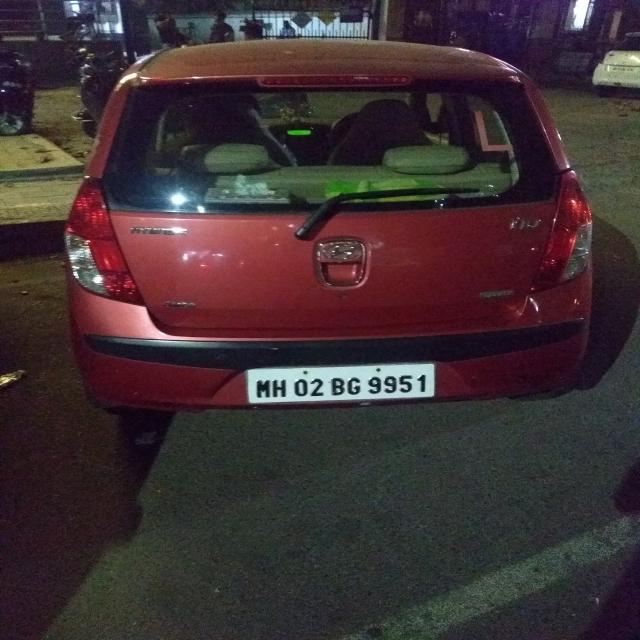Number-Plate: (245, 366, 430, 404)
